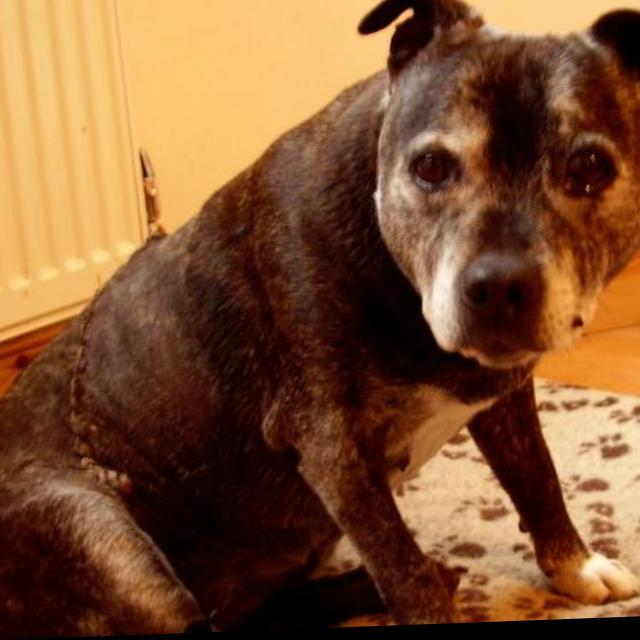staffford: (1, 1, 640, 640)
